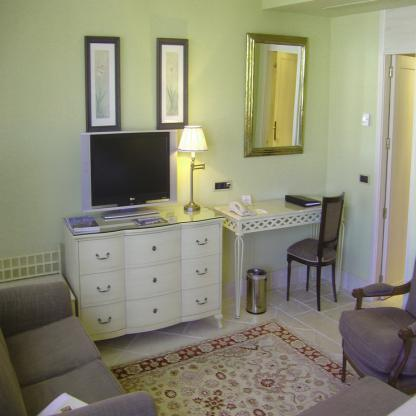door: (390, 51, 412, 296), (268, 57, 298, 152)
hinged: (386, 138, 390, 150), (378, 274, 384, 282), (383, 209, 387, 218), (390, 66, 392, 78)
lever: (274, 126, 278, 132)
